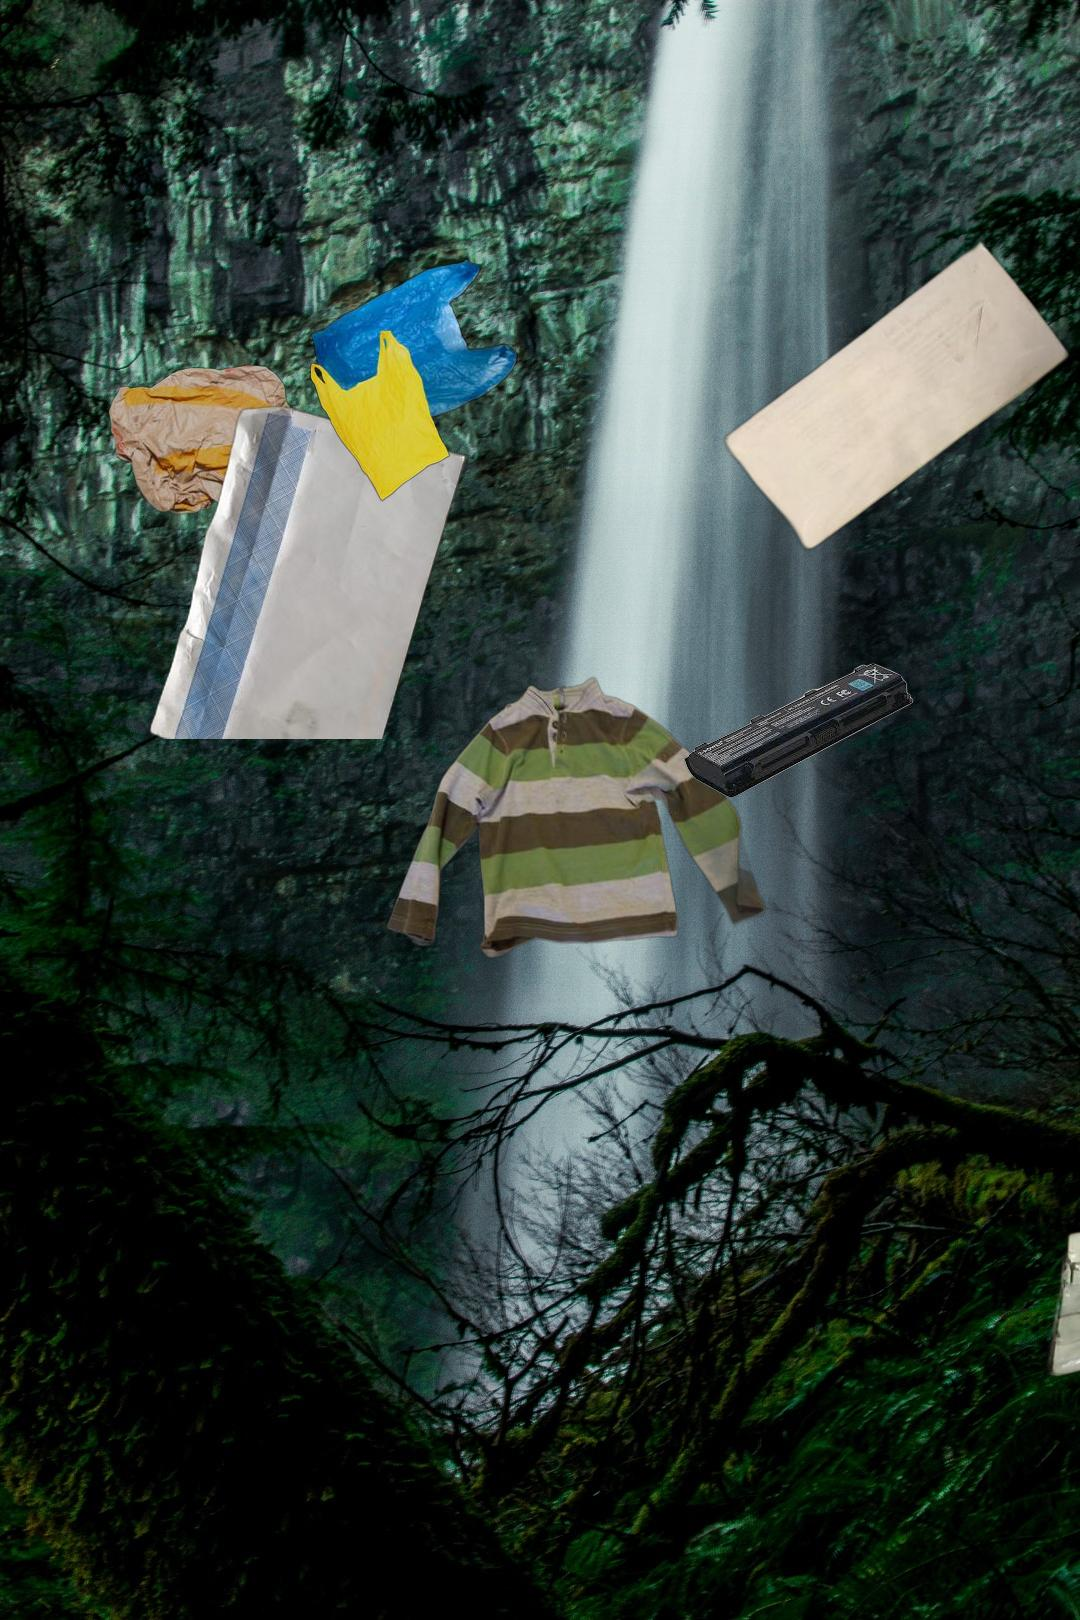battery: (682, 661, 916, 800)
biological: (962, 969, 1080, 1138)
clothes: (383, 675, 770, 962)
paper: (720, 237, 1073, 554), (146, 403, 472, 739)
paper-bag: (105, 364, 318, 520)
plastic-bag: (309, 258, 518, 503)
trashbox-cardboard: (1039, 1029, 1080, 1405)
